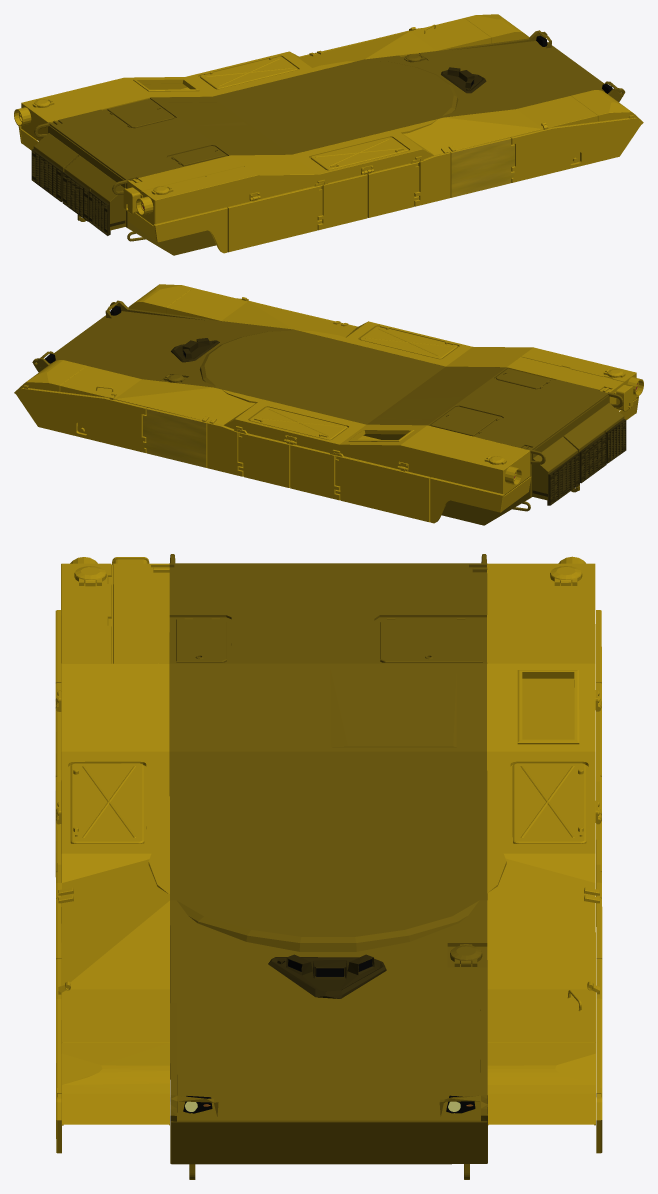
The model's file is chassi.obj.
3 views of the same model, one above another, from view 1: azimuth 30°, elevation 25°; view 2: azimuth 150°, elevation 25°; view 3: azimuth 270°, elevation 25° (orthographic). The views are drawn at different scales.
Visible parts, largest first — view 1: drhatch_hull, engrill_color, rmudguard_color, engrill_shevron, Tube01_exhaust, Rectangle1_body, headlight_bofront; view 2: drhatch_hull, rmudguard_color, engrill_color, rmudguard_shevron_rmudguard_shevron2, Tube01_exhaust, Rectangle1_body, headlight_bofront; view 3: drhatch_hull, rmudguard_color, engrill_color, Rectangle1_body, headlight_bofront.
Boxes of the visible parts, bbox=[...] form: drhatch_hull: bbox=[33, 41, 622, 255]; engrill_color: bbox=[123, 90, 643, 253]; rmudguard_color: bbox=[14, 14, 529, 150]; engrill_shevron: bbox=[451, 139, 514, 197]; Tube01_exhaust: bbox=[31, 149, 125, 235]; Rectangle1_body: bbox=[441, 67, 486, 93]; headlight_bofront: bbox=[449, 30, 625, 106]; drhatch_hull: bbox=[35, 311, 624, 525]; rmudguard_color: bbox=[14, 360, 531, 523]; engrill_color: bbox=[128, 284, 643, 419]; rmudguard_shevron_rmudguard_shevron2: bbox=[143, 409, 206, 467]; Tube01_exhaust: bbox=[532, 419, 626, 505]; Rectangle1_body: bbox=[171, 338, 219, 362]; headlight_bofront: bbox=[32, 300, 208, 376]; drhatch_hull: bbox=[169, 554, 487, 1179]; rmudguard_color: bbox=[487, 556, 602, 1153]; engrill_color: bbox=[55, 557, 169, 1153]; Rectangle1_body: bbox=[268, 954, 386, 998]; headlight_bofront: bbox=[170, 1003, 487, 1121].
Bounding box in the file's own units: 20.07 × 3.32 × 9.2.
